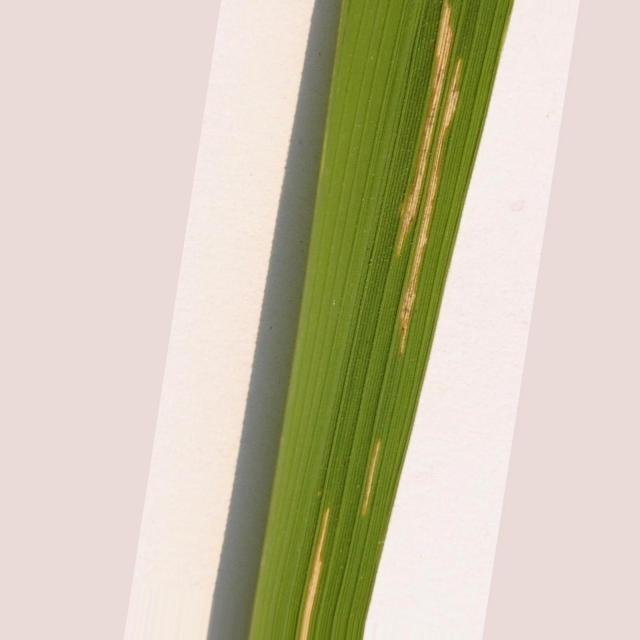Bacterial_Leaf_Blight: (401, 60, 461, 352), (397, 0, 452, 258), (299, 508, 330, 639), (361, 440, 381, 516)
